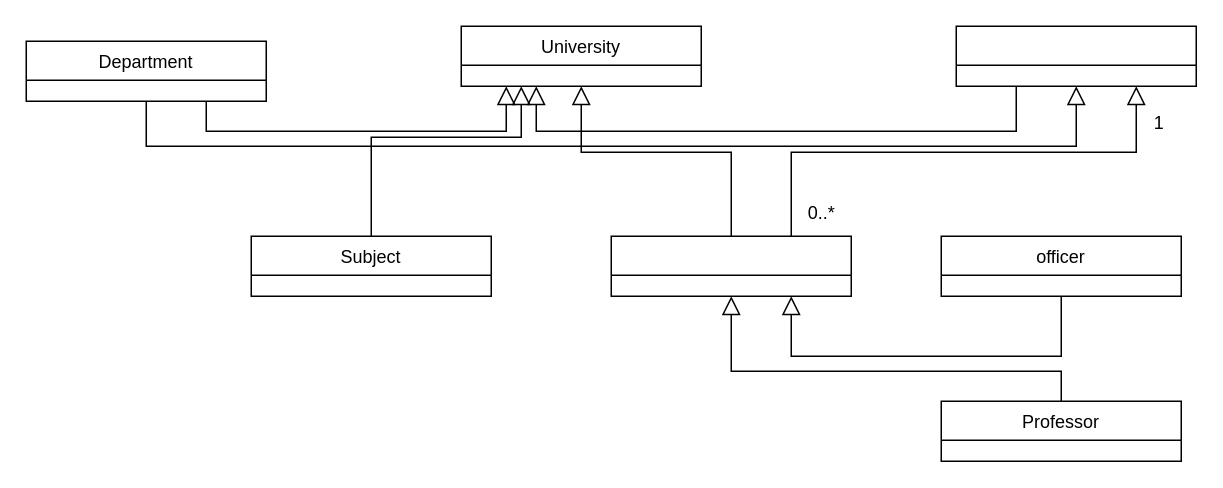
Some shapes in this 1223 by 488 pixel diagram are drawn without their labels. The shapes that lost their labels are listed below. From the top down, each one's box as (x1, y1, x2, y2) in pixels, then its label:
(955, 25, 1196, 86): Office
(610, 235, 851, 296): Employee
